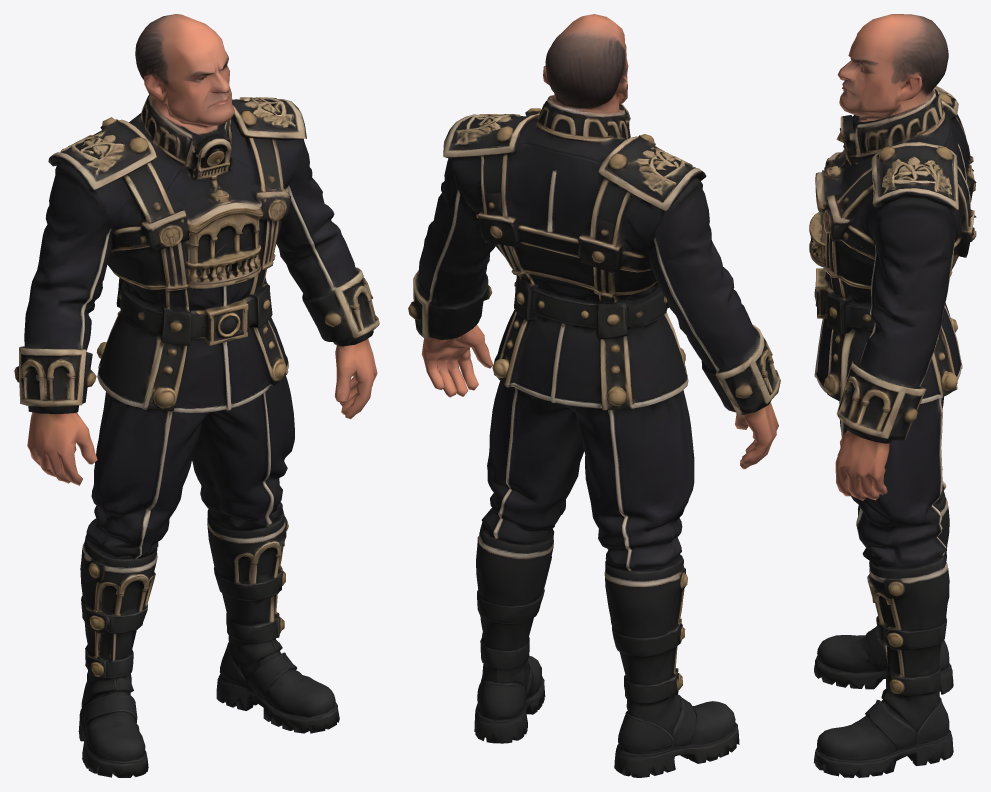
File: mussolini.glb
3 renders of one model, left to right at view 1: azimuth 30°, elevation 25°; view 2: azimuth 150°, elevation 25°; view 3: azimuth 270°, elevation 25°, orthographic. The views are drawn at different scales.
Visible parts, largest first — view 1: tripo_node_3e851a73-81f8-43b9-95ed-5d870a7e2e60; view 2: tripo_node_3e851a73-81f8-43b9-95ed-5d870a7e2e60; view 3: tripo_node_3e851a73-81f8-43b9-95ed-5d870a7e2e60.
Part boxes in pixels (left/top/right/bottom): tripo_node_3e851a73-81f8-43b9-95ed-5d870a7e2e60: left=14, top=14, right=379, bottom=777; tripo_node_3e851a73-81f8-43b9-95ed-5d870a7e2e60: left=408, top=14, right=780, bottom=777; tripo_node_3e851a73-81f8-43b9-95ed-5d870a7e2e60: left=809, top=14, right=976, bottom=777.
Bounding box in the file's own units: 0.5057 × 0.9798 × 0.2116.
Materials: 1 (1 with a texture image).
